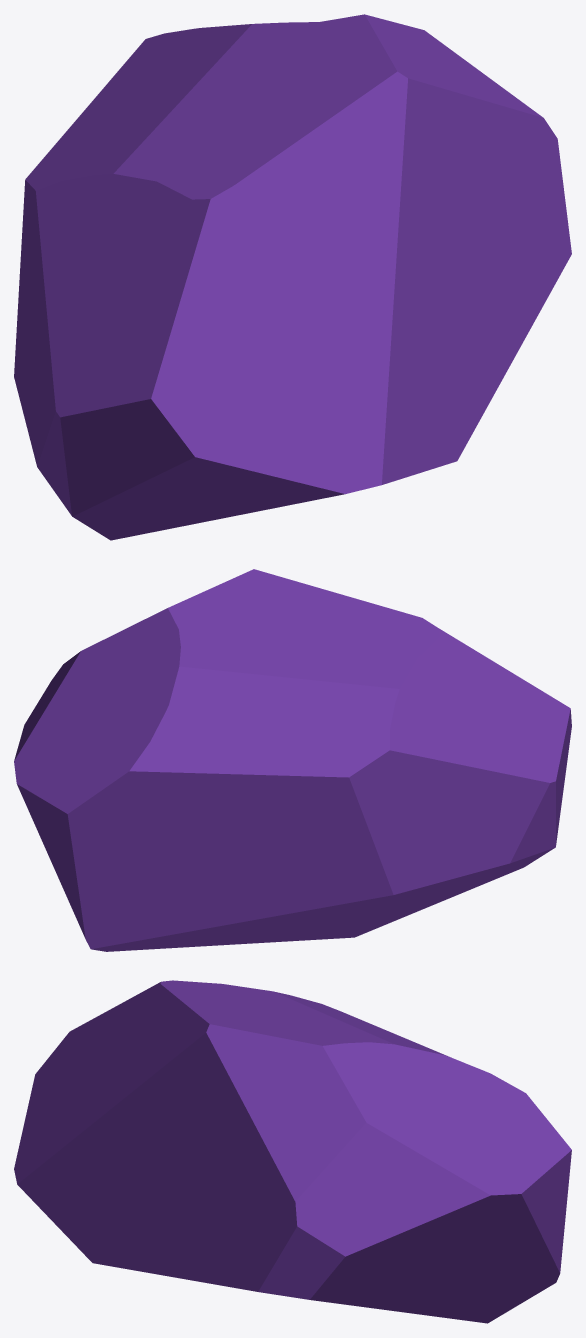
Rendered from rock4.fbx.
3 renders of one model, top to bottom at view 1: azimuth 30°, elevation 25°; view 2: azimuth 150°, elevation 25°; view 3: azimuth 270°, elevation 25°, orthographic. The views are drawn at different scales.
Visible parts, largest first — view 1: Cube_005; view 2: Cube_005; view 3: Cube_005.
Part boxes in pixels (x1,y1,x2,y2): Cube_005: (14,14,571,540); Cube_005: (14,569,571,951); Cube_005: (14,980,571,1323).
Size of the model in its own units: 1.57 by 1.08 by 1.69.
